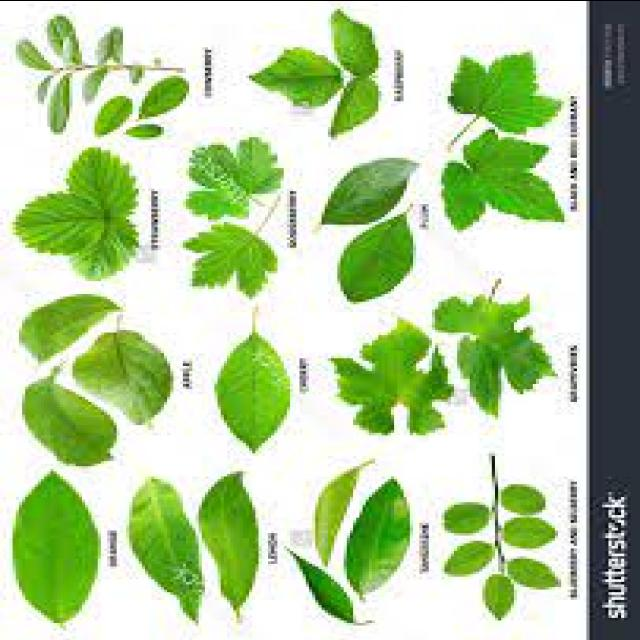leaves: (15, 15, 182, 132), (14, 148, 137, 279), (331, 320, 452, 432), (12, 471, 97, 622), (130, 478, 202, 619), (74, 330, 171, 422), (215, 331, 289, 450), (199, 471, 258, 610), (186, 136, 281, 219), (26, 376, 114, 462), (345, 479, 409, 595), (182, 222, 276, 296), (20, 294, 119, 360), (339, 214, 412, 300), (322, 158, 416, 222), (319, 461, 369, 564), (291, 550, 353, 619), (140, 75, 188, 117), (97, 95, 131, 135), (445, 545, 493, 571), (126, 124, 162, 138)
